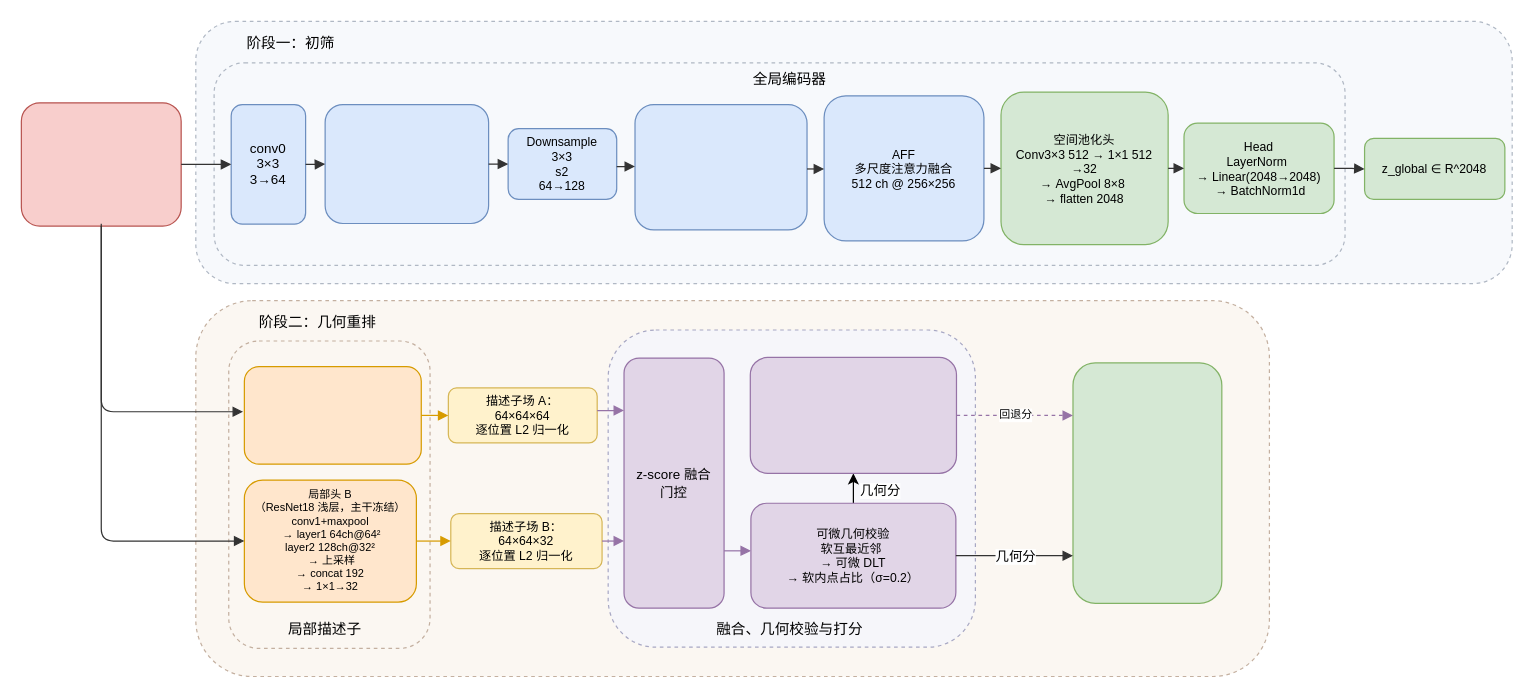
This 1534x698 diagram has some shape labels left out. Each missing label, with the centre of its shape:
"Stage 0 MultiBranchBlock 64 ch M=5 分支 × D=5 残差块 256×256" goes at (x=406, y=163).
"Stage 1 MultiBranchBlock 128 ch M=5 分支 × D=5 残差块 128×128" goes at (x=720, y=166).
"两阶段得分 → 候选内重排 → top-1 source_id" goes at (x=1147, y=482).
"几何回退：16×16 粗网格 几何分 ∈[0.35,0.68) 时触发" goes at (x=852, y=414).
"局部头 A （tiny，与主干共享早期特征） Conv3×3 s2 64ch ×2 → 1×1 → dim 64" goes at (x=332, y=414).
"输入 256×256×3" goes at (x=100, y=164).
